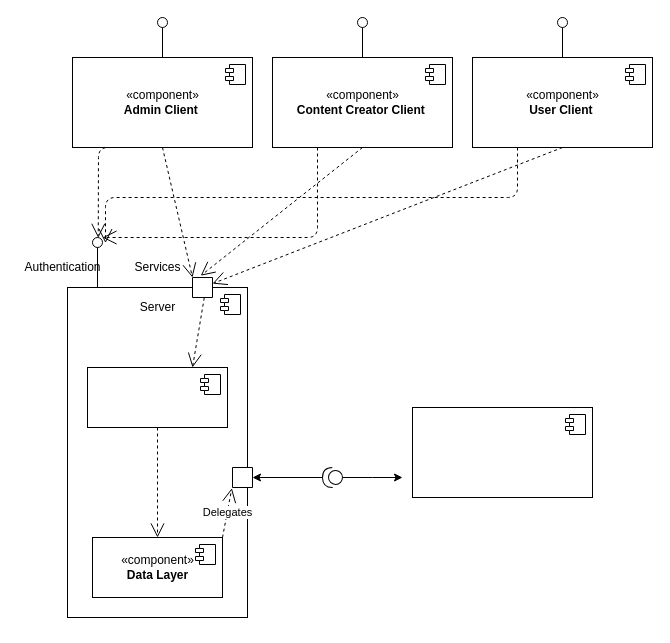
This 670x643 diagram has some shape labels left out. Each missing label, with the centre of its shape:
"«component» Service Layer" belongs at [157,397].
"«data base» Video Games DB" belongs at [502,452].
